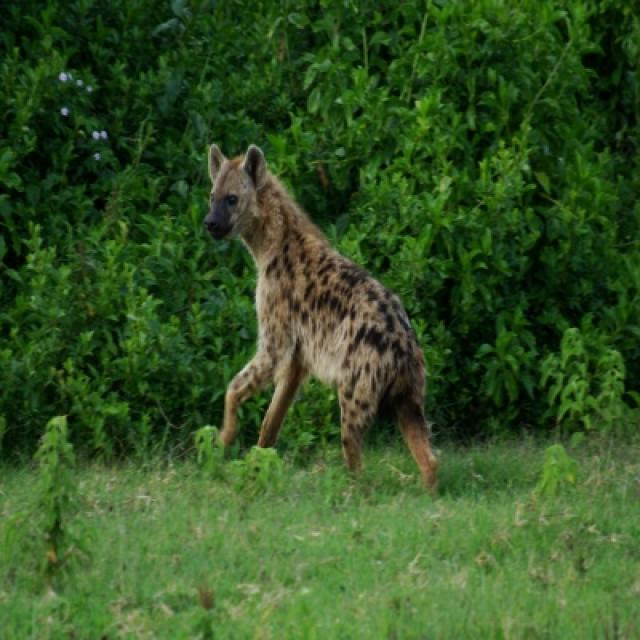hyena: (202, 146, 438, 494)
